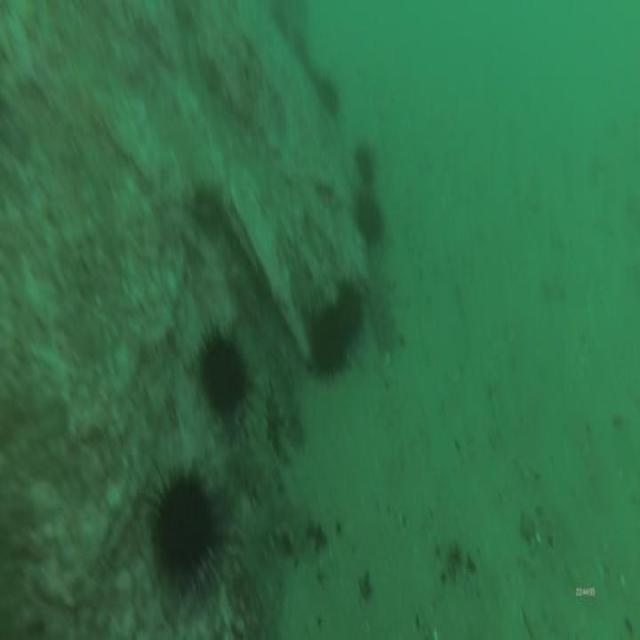echinus: (145, 455, 222, 594), (192, 319, 260, 438), (300, 292, 353, 381), (332, 272, 366, 344), (353, 182, 387, 245), (312, 65, 342, 123), (352, 137, 381, 193)
holothurian: (260, 334, 308, 458), (240, 370, 276, 510)
